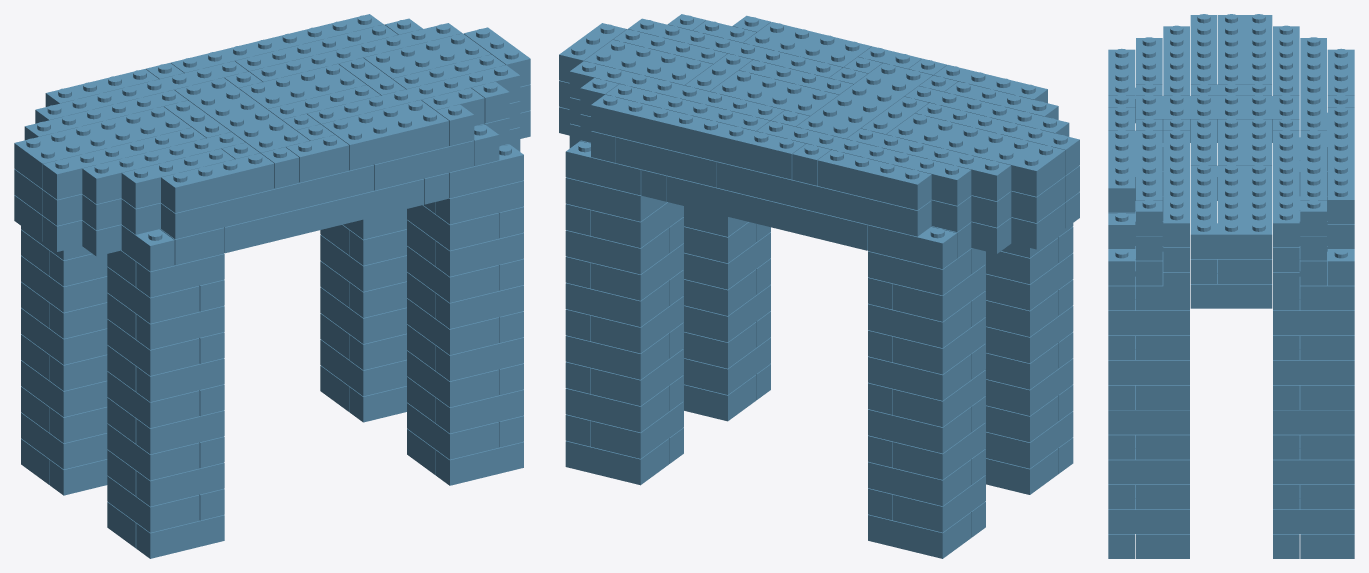
File: 221_table_L1.glb
3 renders of one model, left to right at view 1: azimuth 30°, elevation 25°; view 2: azimuth 150°, elevation 25°; view 3: azimuth 270°, elevation 25°, orthographic. The views are drawn at different scales.
Size of the model in its own units: 18.98 by 14.13 by 8.98.
